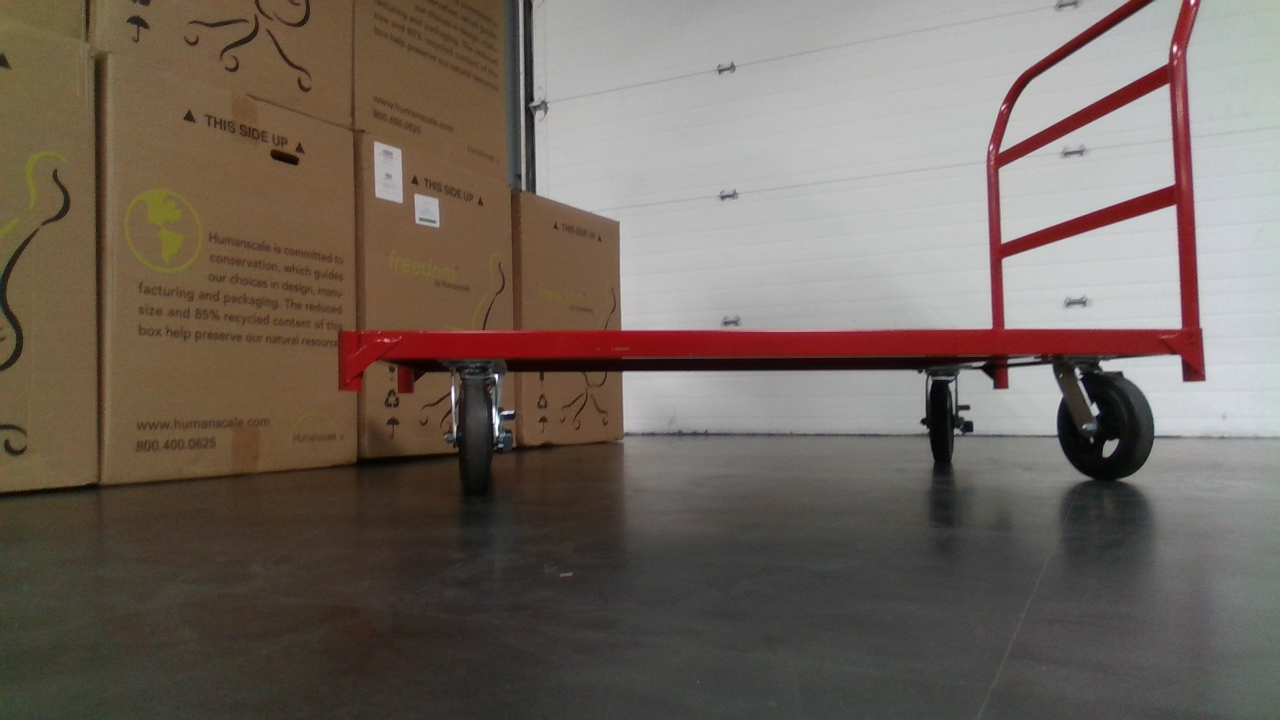Dolly: (328, 0, 1214, 502)
Wheel: (1047, 367, 1162, 486), (440, 363, 518, 501), (912, 367, 975, 476)
